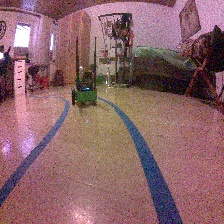rob: (70, 70, 97, 106)
